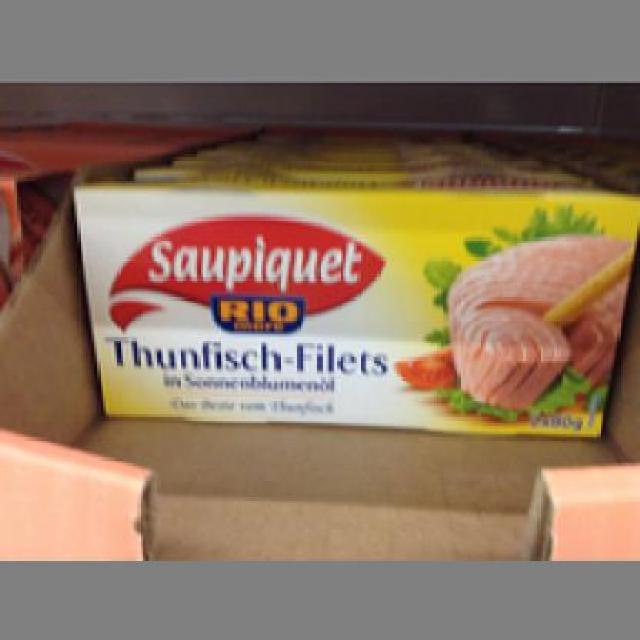Fish: (72, 172, 638, 438)
